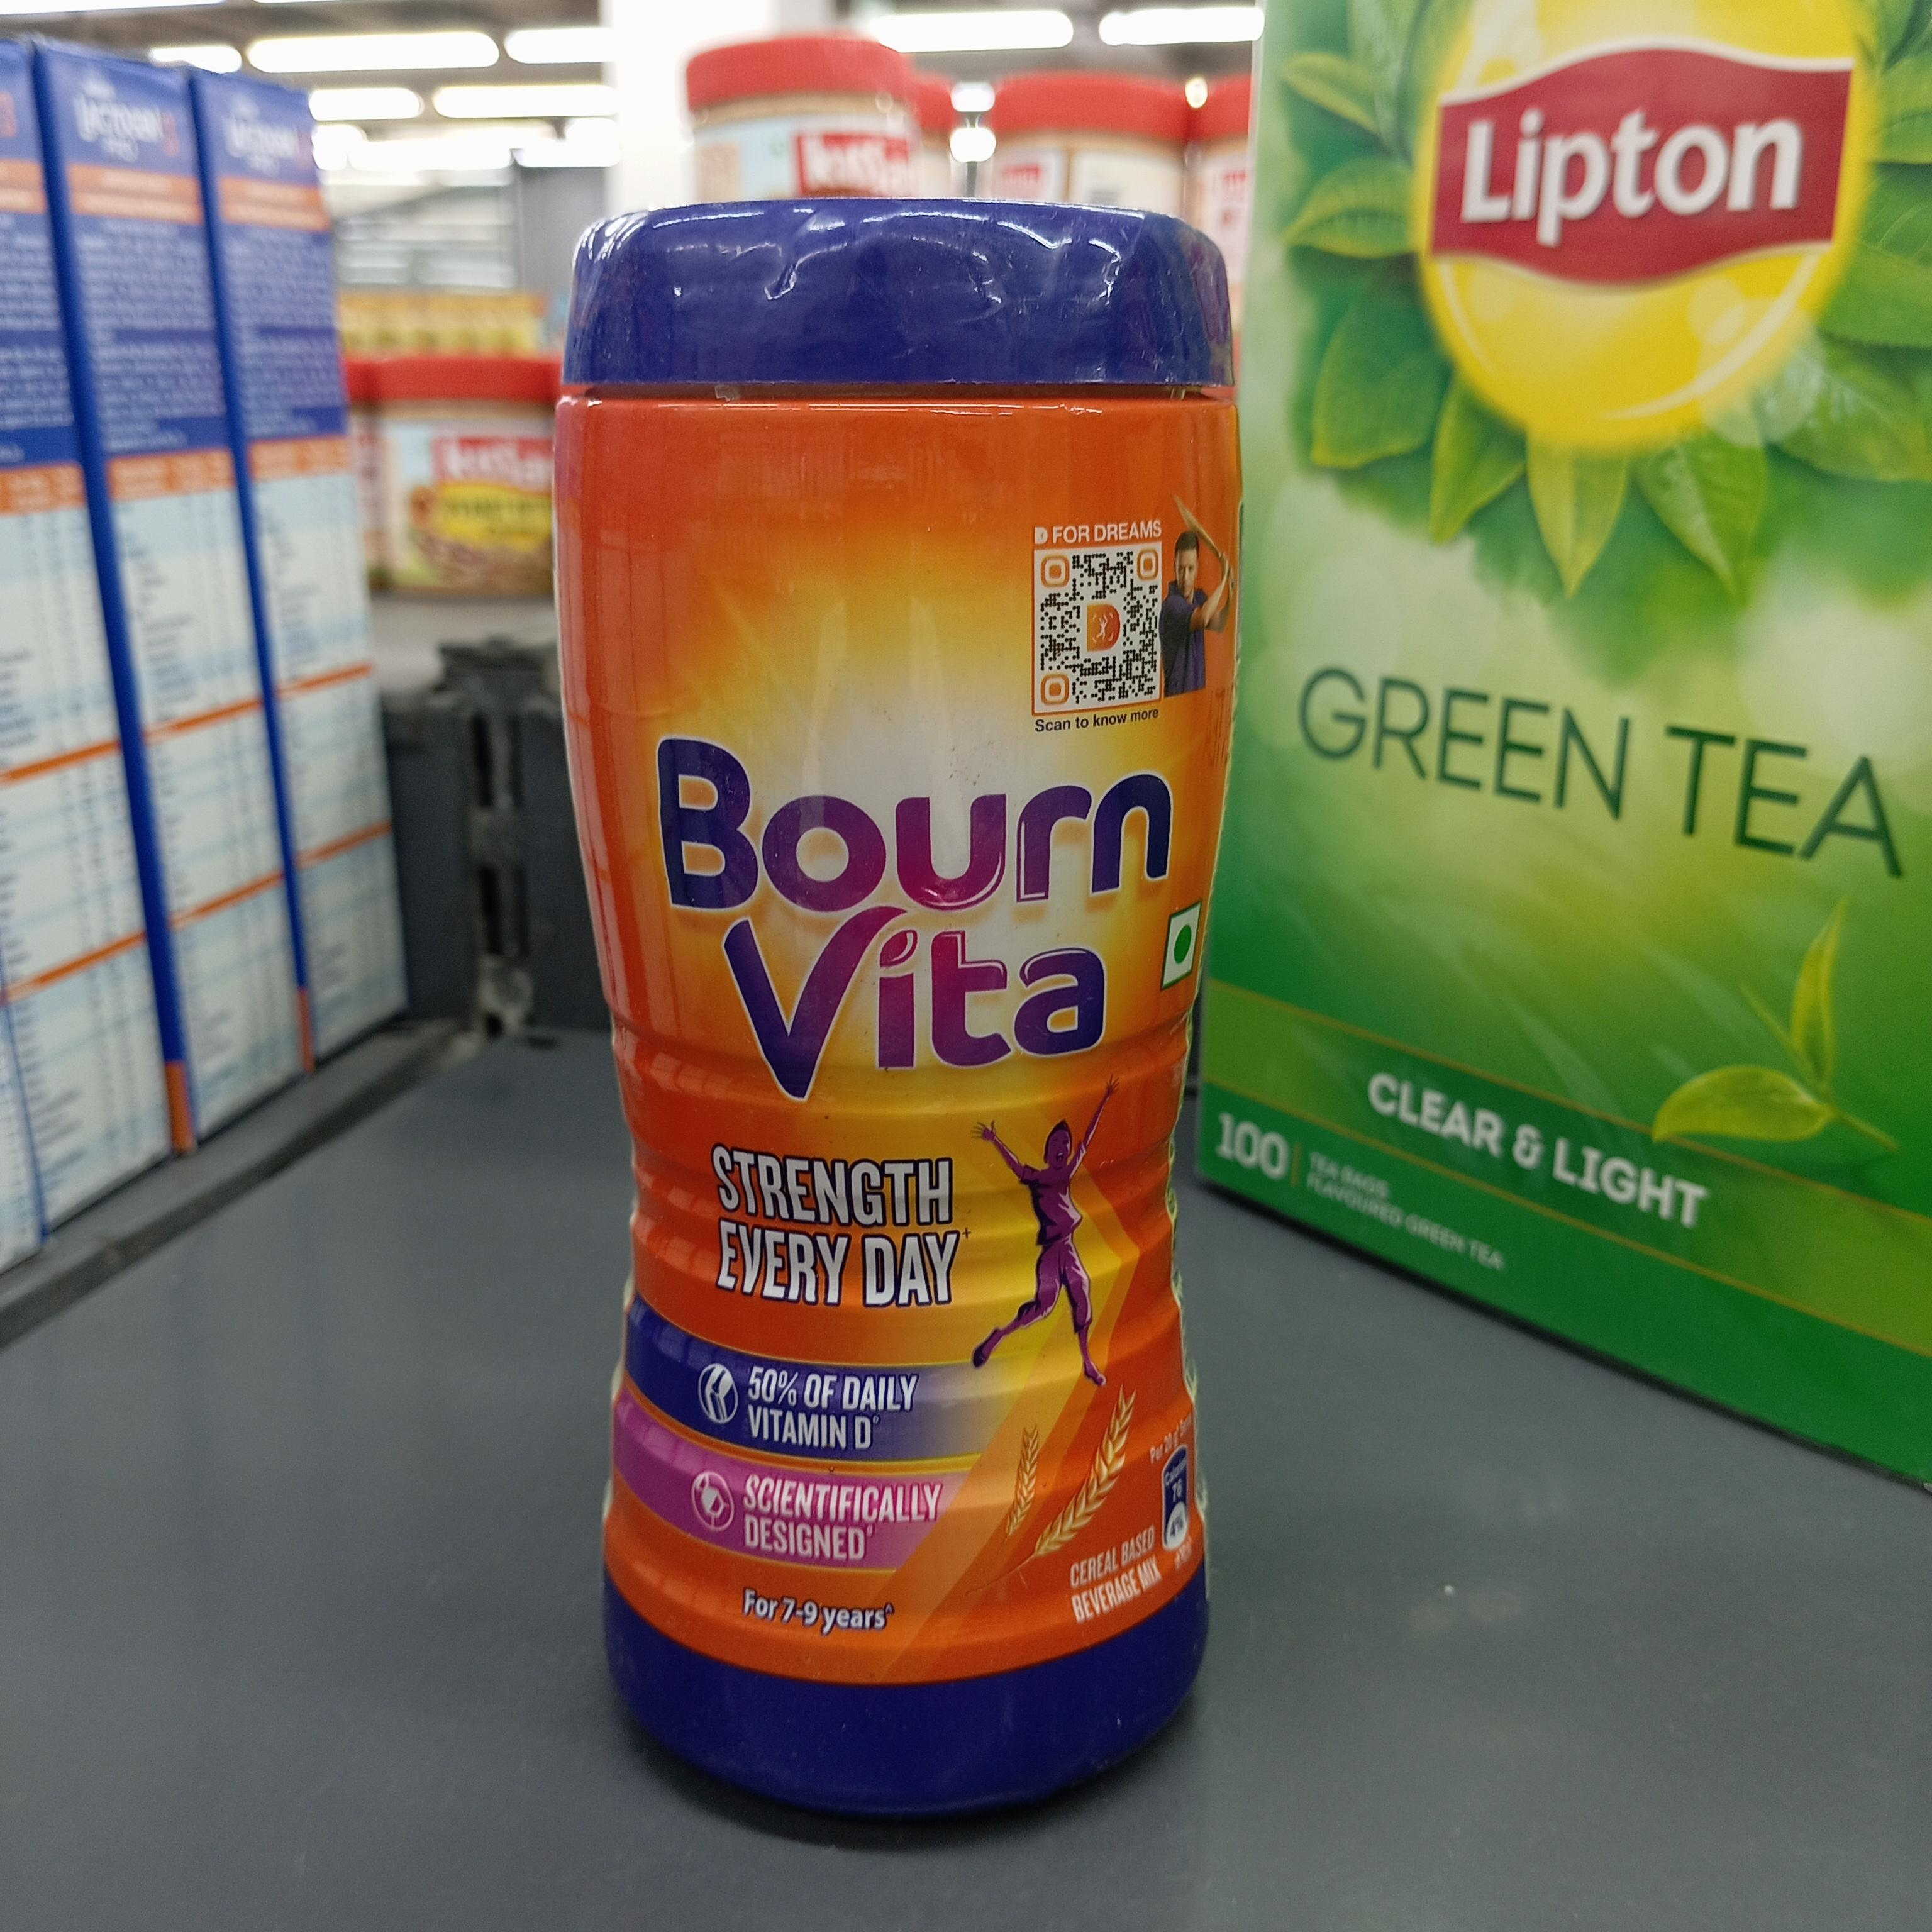BOURN_VITA_200_G_JAR: (566, 157, 1231, 1819)
